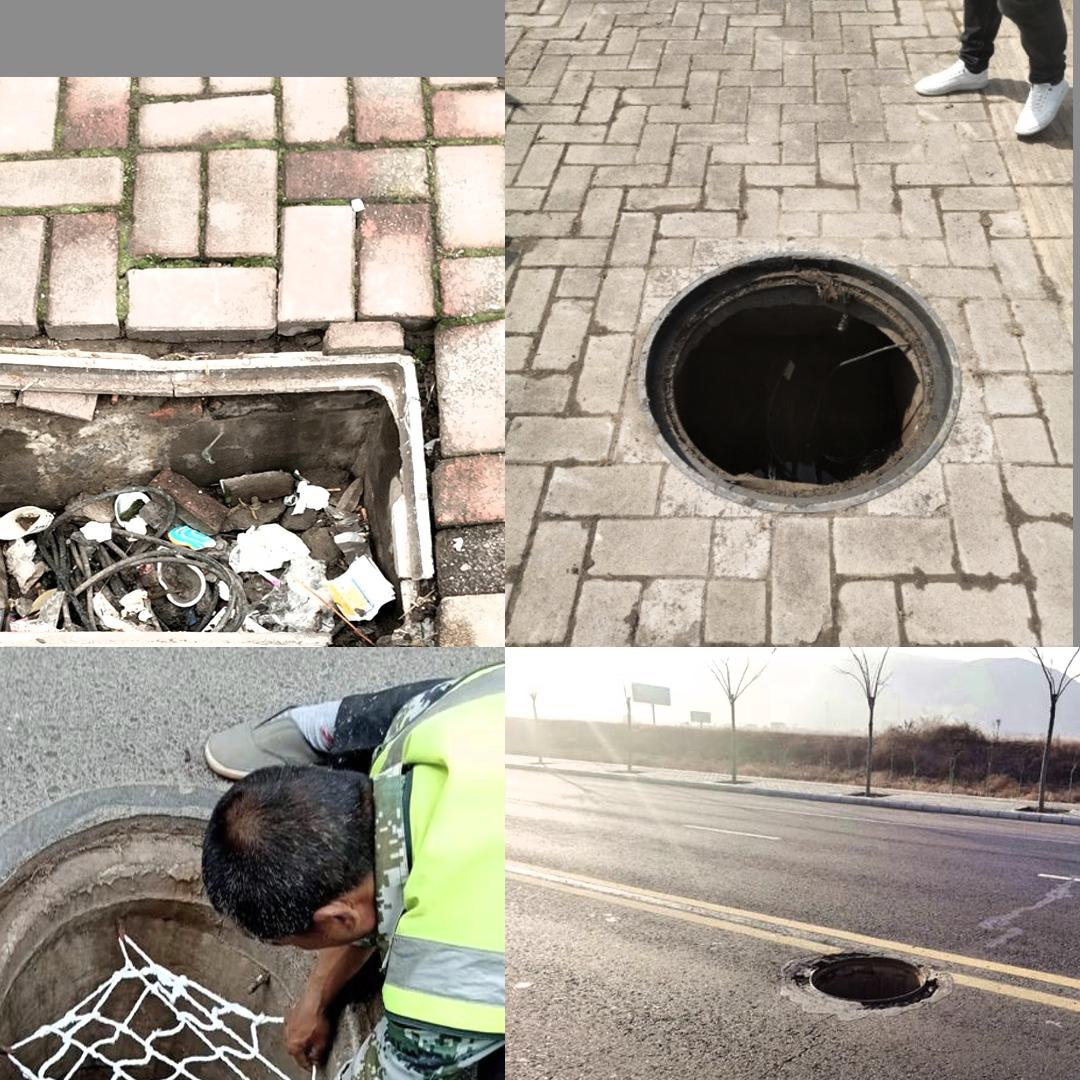lose: (0, 340, 436, 647), (0, 789, 413, 1080), (636, 249, 961, 512), (756, 944, 958, 1022)
